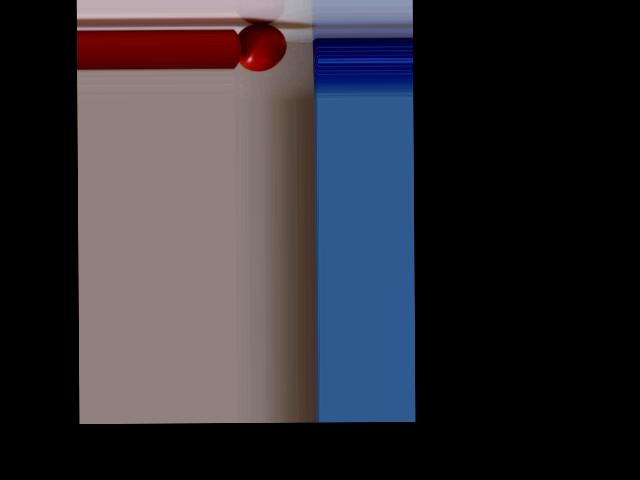tomato: (239, 23, 286, 71)
